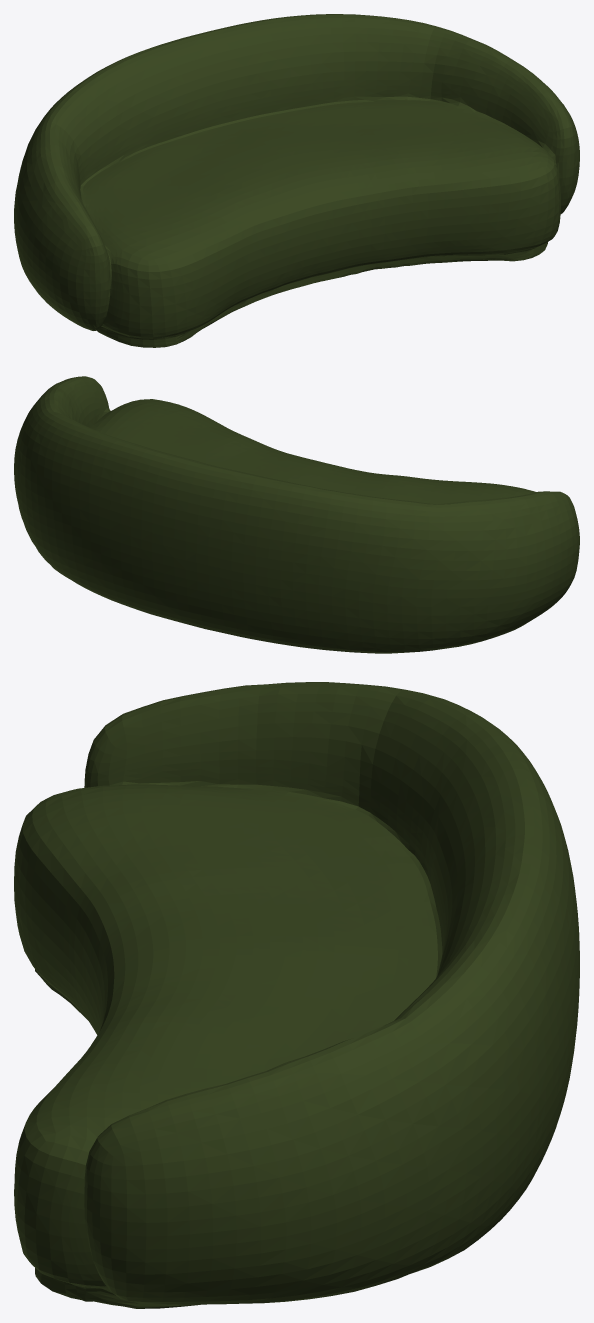
File: meredianemery-velvet-sofa-green-sofa.glb
3 renders of one model, top to bottom at view 1: azimuth 30°, elevation 25°; view 2: azimuth 150°, elevation 25°; view 3: azimuth 270°, elevation 25°, orthographic. The views are drawn at different scales.
Visible parts, largest first — view 1: tripo_node_8c87a4f9-e218-4f54-ad77-3b0cedde498b; view 2: tripo_node_8c87a4f9-e218-4f54-ad77-3b0cedde498b; view 3: tripo_node_8c87a4f9-e218-4f54-ad77-3b0cedde498b.
Part boxes in pixels (x1=…): tripo_node_8c87a4f9-e218-4f54-ad77-3b0cedde498b: x1=14, y1=14, x2=579, y2=347; tripo_node_8c87a4f9-e218-4f54-ad77-3b0cedde498b: x1=14, y1=376, x2=579, y2=653; tripo_node_8c87a4f9-e218-4f54-ad77-3b0cedde498b: x1=14, y1=682, x2=579, y2=1308.
Bounding box in the file's own units: 3.35 × 1.03 × 1.79.
1 material, 1 textured.
